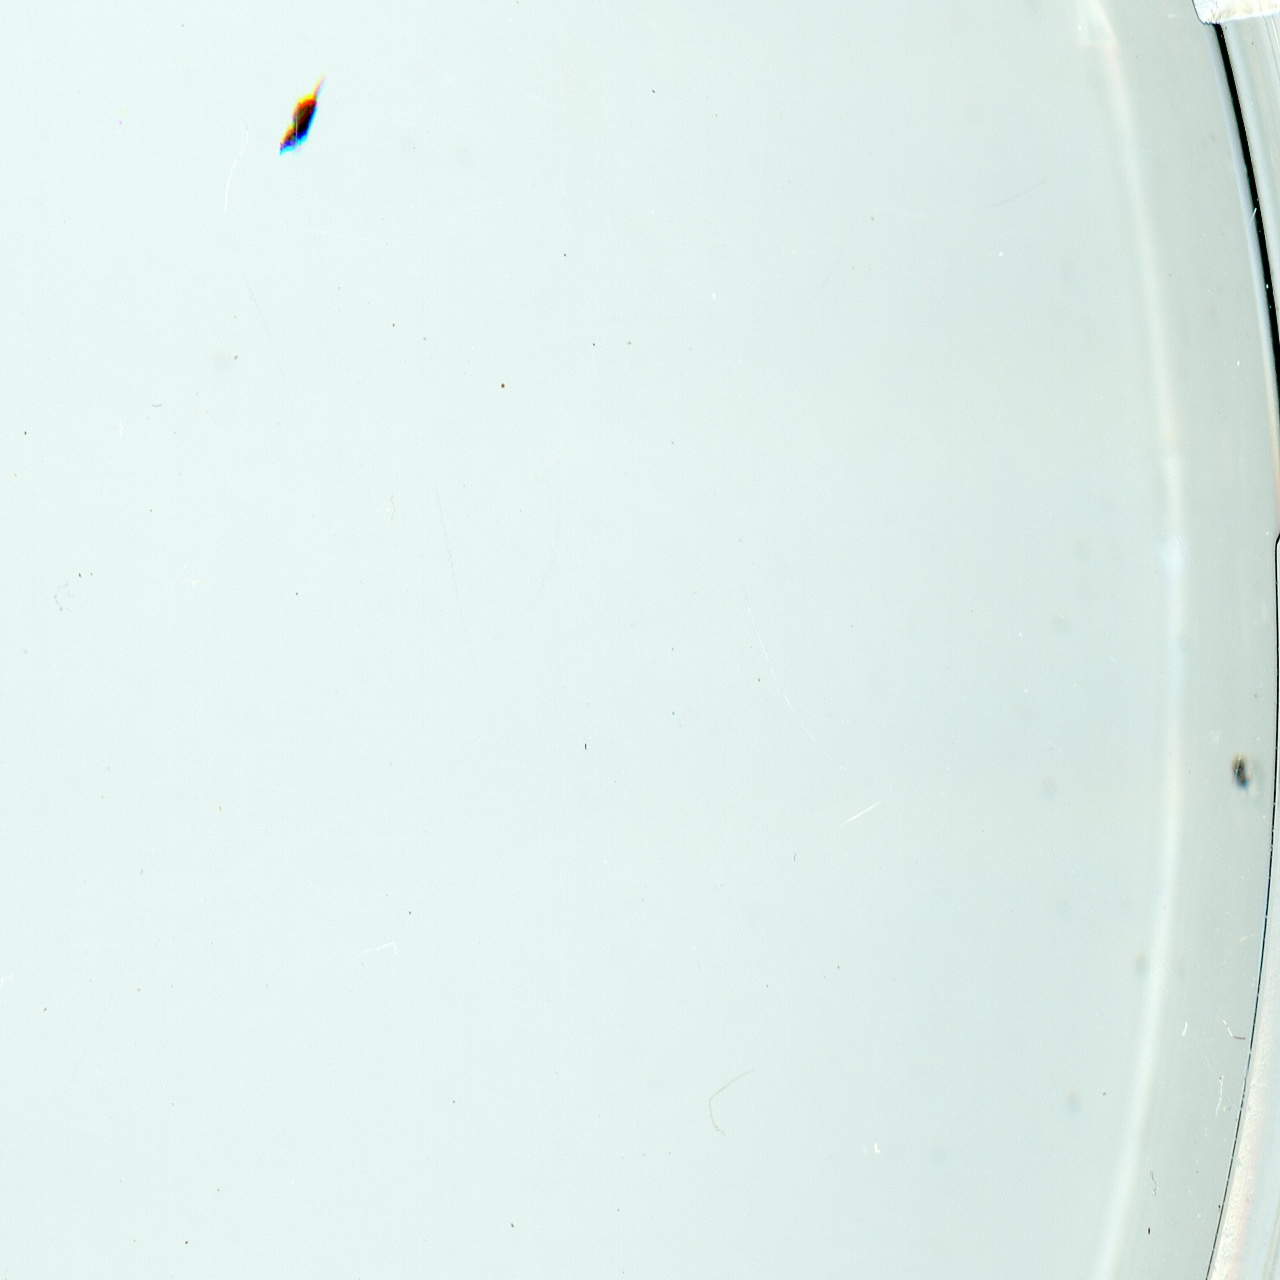arthropod: (277, 73, 325, 164)
